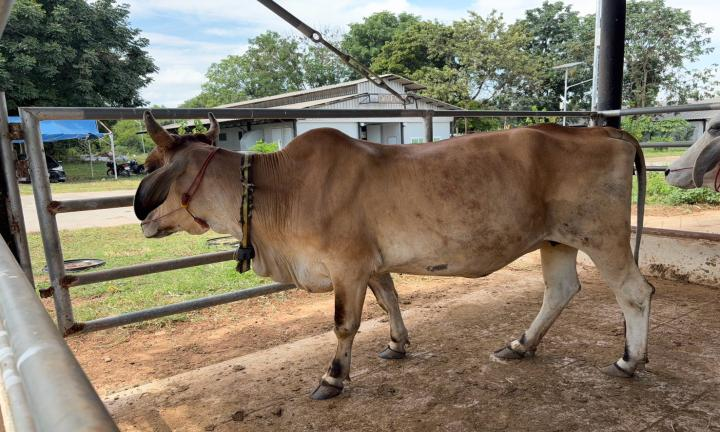Brahman: (134, 111, 654, 398)
